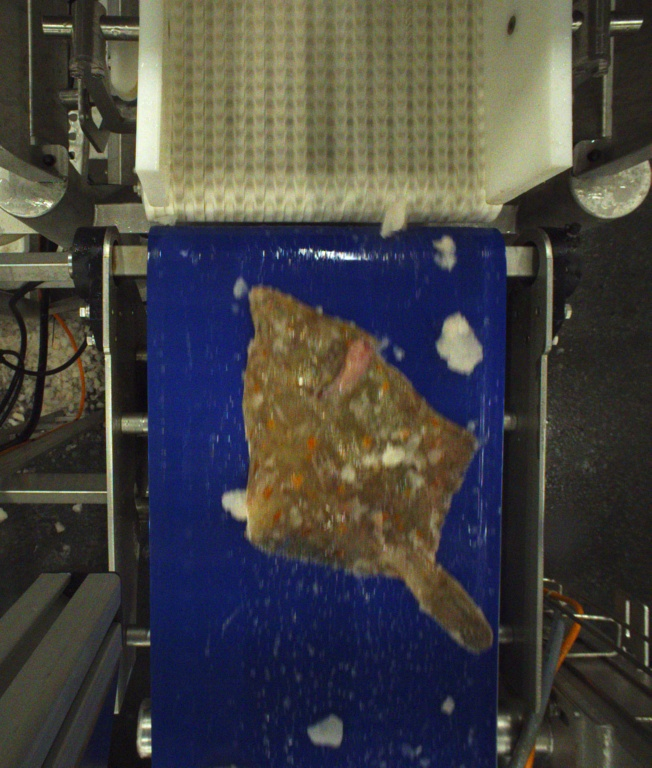PLE: (240, 283, 493, 655)
